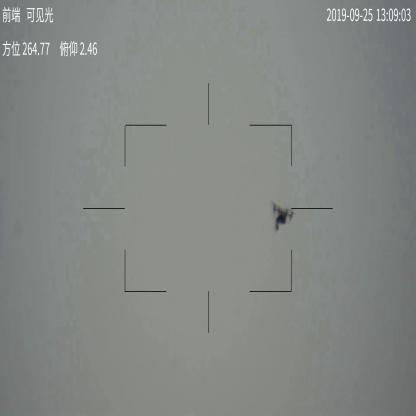uav: (272, 200, 298, 235)
